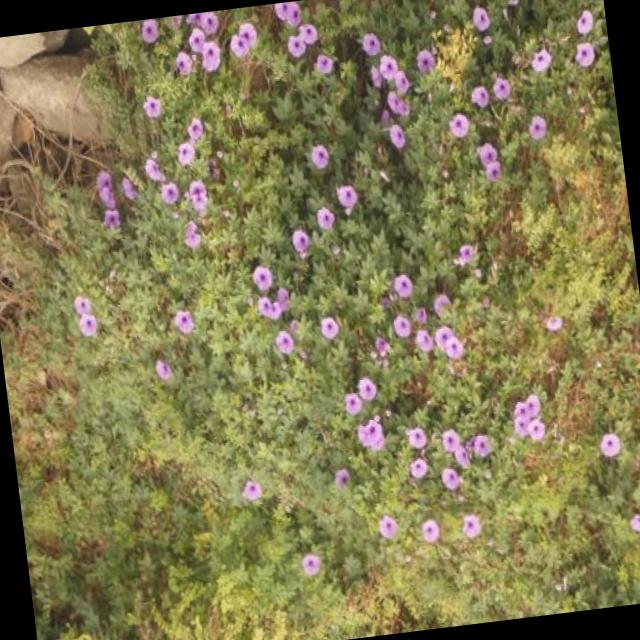ipomoea: (27, 0, 640, 616), (504, 386, 552, 449)
